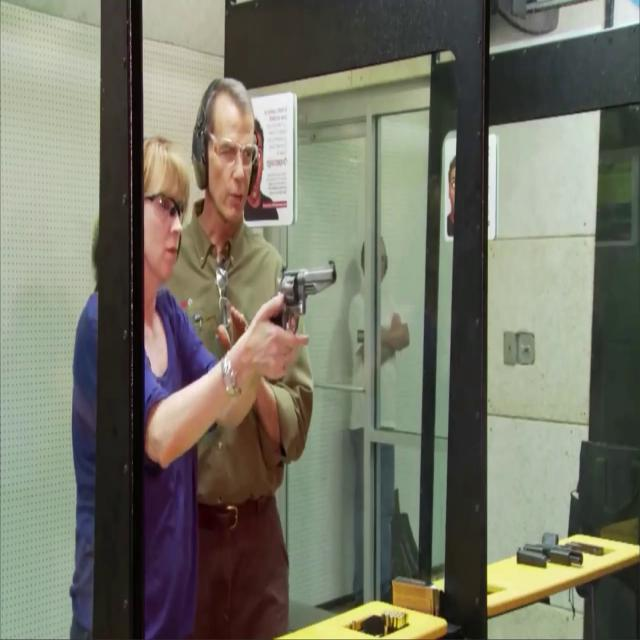Gun: (271, 258, 337, 344)
